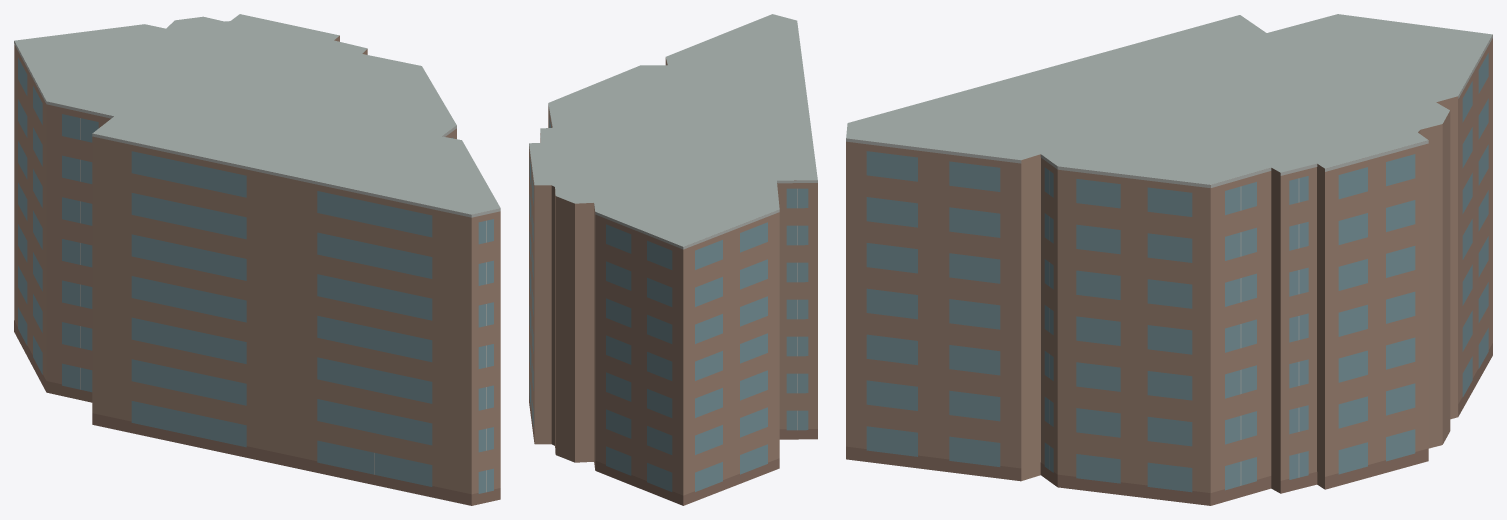
Rendered from survey-upis-32953157.glb.
The picture shows the model from 3 angles, left to right: view 1: azimuth 30°, elevation 25°; view 2: azimuth 150°, elevation 25°; view 3: azimuth 270°, elevation 25°; orthographic projection. The views are drawn at different scales.
Parts seen in each view (by area): view 1: survey-upis-32953157.tmp; view 2: survey-upis-32953157.tmp; view 3: survey-upis-32953157.tmp.
Boxes of the visible parts, <box> form: survey-upis-32953157.tmp: <box>14,14,500,505</box>; survey-upis-32953157.tmp: <box>529,14,817,505</box>; survey-upis-32953157.tmp: <box>846,14,1492,505</box>.
Size of the model in its own units: 27.08 by 23.71 by 43.31.
